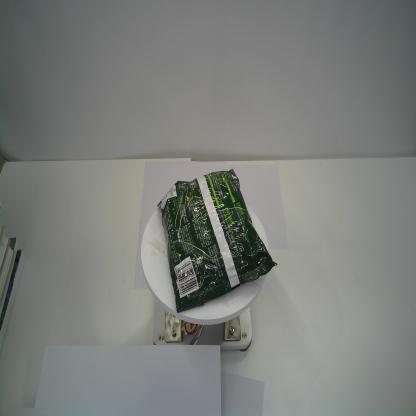Instant Noodles: (155, 166, 279, 315)
